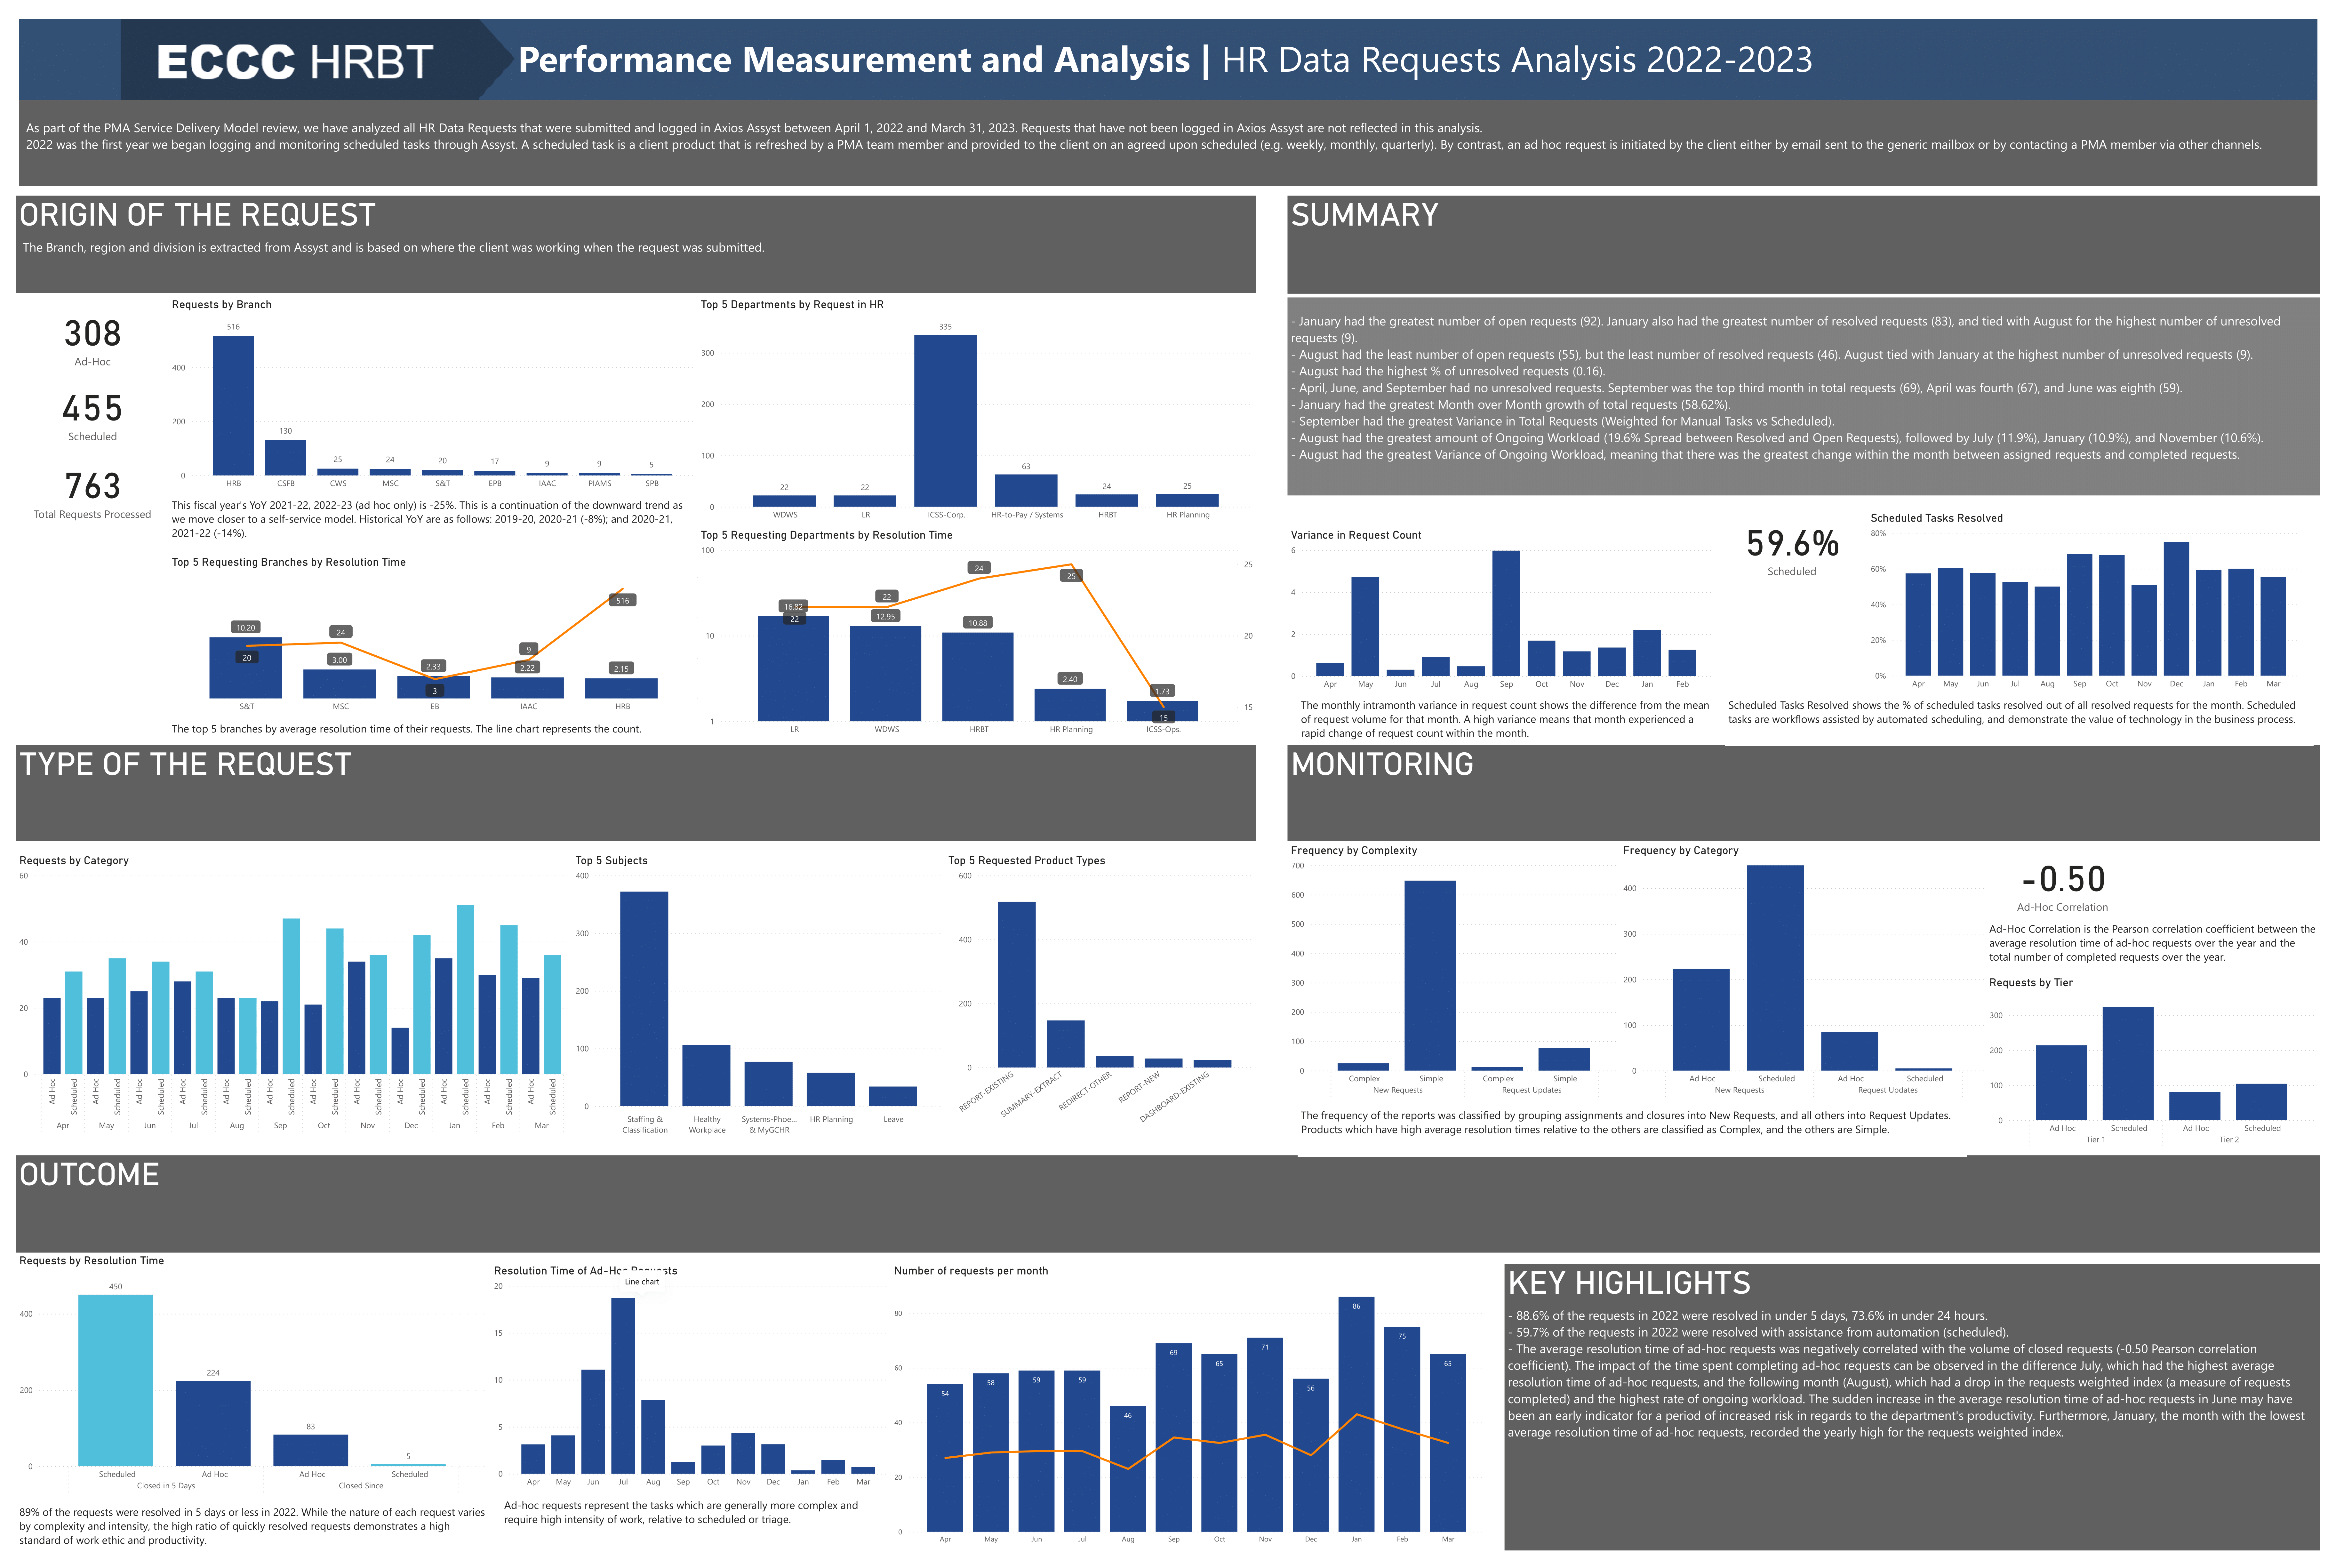

This screenshot's page, from the dashboard's own definition file:
{"tool":"powerbi","page":{"name":"Highlights","canvas":[3456,2304],"ordinal":0},"visuals":[{"type":"slicer","fields":{"Values":["Date.Date"]},"box":[3200,20,231.7,105],"z":0},{"type":"image","box":[0,0,3456.7,260],"z":1000},{"type":"textbox","box":[746.7,20,2453.3,86.7],"z":2000},{"type":"textbox","title":"ORIGIN OF THE REQUEST","box":[0,270,1860,146],"z":3000},{"type":"lineStackedColumnComboChart","title":"Top 5 Requesting Branches by Resolution Time","fields":{"Category":["HR_DATA_REQUEST_REPORT.AFF_BRANCH_TEXT"],"Y":["Avg(HR_DATA_REQUEST_REPORT.RESOLUTION_TIME)"],"Y2":["CountNonNull(HR_DATA_REQUEST_REPORT.RESOLUTION_TIME)"]},"box":[231.2,810,837.5,245],"z":4000},{"type":"lineClusteredColumnComboChart","title":"Requests by Branch","fields":{"Category":["HR_DATA_REQUEST_REPORT.AFF_BRANCH_TEXT"],"Y":["CountNonNull(HR_DATA_REQUEST_REPORT.INCIDENT_REF)"]},"box":[230,421.4,792.9,297.1],"z":5000},{"type":"columnChart","title":"Resolution Time of Ad-Hoc Requests","fields":{"Category":["MonthOrder.MonthOrderDesc"],"Y":["Avg(HR_DATA_REQUEST_REPORT.RESOLUTION_TIME)"]},"box":[712.5,1872.5,600,345],"z":6000},{"type":"textbox","title":"TYPE OF THE REQUEST","box":[0,1096,1860,144],"z":7000},{"type":"textbox","title":"OUTCOME","box":[0,1710,3460,146],"z":8000},{"type":"textbox","title":"KEY HIGHLIGHTS","box":[2232.5,1872.5,1225,430],"z":9000},{"type":"columnChart","title":"Scheduled Tasks Resolved","fields":{"Category":["MonthOrder.MonthOrderDesc"],"Y":["HR_DATA_REQUEST_REPORT.Automated Tasks Resolved"]},"box":[2778.9,742.2,653.3,276.7],"z":10000},{"type":"lineClusteredColumnComboChart","title":"Requests by Category","fields":{"Category":["MonthOrder.MonthOrderDesc","HR_DATA_REQUEST_REPORT.INC_CAT_N"],"Y":["CountNonNull(HR_DATA_REQUEST_REPORT.INCIDENT_REF)"]},"box":[0,1258,836,430],"z":11000},{"type":"clusteredColumnChart","title":"Top 5 Departments by Request in HR","fields":{"Y":["CountNonNull(HR_DATA_REQUEST_REPORT.INCIDENT_REF)"],"Category":["Sheet4.HR DIVISION"]},"box":[1022,422,838,344],"z":12000},{"type":"lineStackedColumnComboChart","title":"Number of requests per month","fields":{"Category":["MonthOrder.MonthOrderDesc"],"Y":["CountNonNull(HR_DATA_REQUEST_REPORT.INCIDENT_REF)","HR_DATA_REQUEST_REPORT.Unresolved"],"Y2":["HR_DATA_REQUEST_REPORT.Requests Weighted Index"]},"box":[1312,1872,896,430],"z":13000},{"type":"textbox","title":"MONITORING","box":[1906,1096,1550,144],"z":14000},{"type":"clusteredColumnChart","title":"Variance in Request Count","fields":{"Category":["MonthOrder.MonthOrderDesc"],"Y":["HR_DATA_REQUEST_REPORT.Requests Weighted Index Variance"]},"box":[1906.2,766.2,640,252.5],"z":15000},{"type":"columnChart","title":"Requests by Resolution Time","fields":{"Category":["HR_DATA_REQUEST_REPORT.CLOSEDIN5DAYS","HR_DATA_REQUEST_REPORT.INC_CAT_N"],"Y":["CountNonNull(HR_DATA_REQUEST_REPORT.INCIDENT_REF)"]},"box":[0,1856.2,712.5,370],"z":16000},{"type":"textbox","title":"SUMMARY","box":[1906.7,270,1550,146.7],"z":17000},{"type":"textbox","box":[1906.7,421.7,1550,296.7],"z":18000},{"type":"card","fields":{"Values":["CountNonNull(HR_DATA_REQUEST_REPORT.INCIDENT_REF)"]},"box":[1.2,651.2,230,113.8],"z":19000},{"type":"textbox","title":"ORIGIN OF THE REQUEST","box":[11.2,130,3433.8,115],"z":20000},{"type":"card","fields":{"Values":["CountNonNull(HR_DATA_REQUEST_REPORT.INCIDENT_REF)"]},"box":[1.2,421.2,230,113.8],"z":21000},{"type":"card","fields":{"Values":["CountNonNull(HR_DATA_REQUEST_REPORT.INCIDENT_REF)"]},"box":[0,536.2,230,115],"z":22000},{"type":"columnChart","title":"Top 5 Subjects","fields":{"Y":["CountNonNull(HR_DATA_REQUEST_REPORT.INCIDENT_REF)"],"Category":["Sheet5.Subject Area"]},"box":[831.7,1258.3,561.7,430],"z":23000},{"type":"columnChart","title":"Top 5 Requested Product Types","fields":{"Y":["CountNonNull(HR_DATA_REQUEST_REPORT.INCIDENT_REF)"],"Category":["HR_DATA_REQUEST_REPORT.PRODUCT_SC"]},"box":[1393.8,1258.8,466.2,430],"z":24000},{"type":"lineStackedColumnComboChart","title":"Top 5 Requesting Departments by Resolution Time","fields":{"Y":["Avg(HR_DATA_REQUEST_REPORT.RESOLUTION_TIME)"],"Y2":["CountNonNull(HR_DATA_REQUEST_REPORT.RESOLUTION_TIME)"],"Category":["Sheet4.HR DIVISION"]},"box":[1022,766,838,320],"z":25000},{"type":"clusteredColumnChart","title":"Requests by Tier","fields":{"Category":["HR_DATA_REQUEST_REPORT.Tier 1","HR_DATA_REQUEST_REPORT.INC_CAT_N"],"Y":["CountNonNull(HR_DATA_REQUEST_REPORT.INCIDENT_REF)"]},"box":[2956.7,1441.7,500,268.3],"z":26000},{"type":"clusteredColumnChart","title":"Frequency by Category","fields":{"Category":["HR_DATA_REQUEST_REPORT.Frequency Type","HR_DATA_REQUEST_REPORT.INC_CAT_N"],"Y":["CountNonNull(HR_DATA_REQUEST_REPORT.INCIDENT_REF)"]},"box":[2405,1240,551.7,391.7],"z":27000},{"type":"clusteredColumnChart","title":"Frequency by Complexity","fields":{"Category":["HR_DATA_REQUEST_REPORT.Frequency Type","HR_DATA_REQUEST_REPORT.Request Complexity"],"Y":["CountNonNull(HR_DATA_REQUEST_REPORT.INCIDENT_REF)"]},"box":[1906.7,1240,501.7,391.7],"z":28000},{"type":"textbox","box":[230,718.6,791.4,75.7],"z":29000},{"type":"textbox","box":[230,1055,791.2,31.2],"z":30000},{"type":"textbox","box":[1920,1018.8,626.2,75],"z":31000},{"type":"textbox","box":[2562.5,1016.2,882.5,77.5],"z":32000},{"type":"textbox","box":[1920,1631.2,1003.8,78.8],"z":33000},{"type":"textbox","box":[0,2226.2,712.5,77.5],"z":34000},{"type":"textbox","box":[725,2217.5,573.8,77.5],"z":35000},{"type":"card","title":"Ad-Hoc Correlation","fields":{"Values":["Sheet1.Correlation between Ad-Hoc Time and Requests Completed"]},"box":[2956.7,1240,230,113.3],"z":36000},{"type":"textbox","box":[2956.7,1353.3,500,75],"z":37000},{"type":"card","title":"Automated Tasks","fields":{"Values":["HR_DATA_REQUEST_REPORT.Automated Tasks Resolved"]},"box":[2546.7,737.8,232.2,113.3],"z":38000}]}

Visuals, with their boxes on the page's 3456x2304 design canvas (x1, y1, x2, y2). These are canvas units, not pixel positions in the 2336x1568 screenshot, which may show the page scaled, cropped or inside an application window:
slicer - Date.Date: bbox(3200, 20, 3432, 125)
image: bbox(0, 0, 3457, 260)
textbox: bbox(747, 20, 3200, 107)
"ORIGIN OF THE REQUEST" textbox: bbox(0, 270, 1860, 416)
"Top 5 Requesting Branches by Resolution Time" lineStackedColumnComboChart: bbox(231, 810, 1069, 1055)
"Requests by Branch" lineClusteredColumnComboChart: bbox(230, 421, 1023, 718)
"Resolution Time of Ad-Hoc Requests" columnChart: bbox(712, 1872, 1312, 2218)
"TYPE OF THE REQUEST" textbox: bbox(0, 1096, 1860, 1240)
"OUTCOME" textbox: bbox(0, 1710, 3460, 1856)
"KEY HIGHLIGHTS" textbox: bbox(2232, 1872, 3458, 2302)
"Scheduled Tasks Resolved" columnChart: bbox(2779, 742, 3432, 1019)
"Requests by Category" lineClusteredColumnComboChart: bbox(0, 1258, 836, 1688)
"Top 5 Departments by Request in HR" clusteredColumnChart: bbox(1022, 422, 1860, 766)
"Number of requests per month" lineStackedColumnComboChart: bbox(1312, 1872, 2208, 2302)
"MONITORING" textbox: bbox(1906, 1096, 3456, 1240)
"Variance in Request Count" clusteredColumnChart: bbox(1906, 766, 2546, 1019)
"Requests by Resolution Time" columnChart: bbox(0, 1856, 712, 2226)
"SUMMARY" textbox: bbox(1907, 270, 3457, 417)
textbox: bbox(1907, 422, 3457, 718)
card - CountNonNull(HR_DATA_REQUEST_REPORT.INCIDENT_REF): bbox(1, 651, 231, 765)
"ORIGIN OF THE REQUEST" textbox: bbox(11, 130, 3445, 245)
card - CountNonNull(HR_DATA_REQUEST_REPORT.INCIDENT_REF): bbox(1, 421, 231, 535)
card - CountNonNull(HR_DATA_REQUEST_REPORT.INCIDENT_REF): bbox(0, 536, 230, 651)
"Top 5 Subjects" columnChart: bbox(832, 1258, 1393, 1688)
"Top 5 Requested Product Types" columnChart: bbox(1394, 1259, 1860, 1689)
"Top 5 Requesting Departments by Resolution Time" lineStackedColumnComboChart: bbox(1022, 766, 1860, 1086)
"Requests by Tier" clusteredColumnChart: bbox(2957, 1442, 3457, 1710)
"Frequency by Category" clusteredColumnChart: bbox(2405, 1240, 2957, 1632)
"Frequency by Complexity" clusteredColumnChart: bbox(1907, 1240, 2408, 1632)
textbox: bbox(230, 719, 1021, 794)
textbox: bbox(230, 1055, 1021, 1086)
textbox: bbox(1920, 1019, 2546, 1094)
textbox: bbox(2562, 1016, 3445, 1094)
textbox: bbox(1920, 1631, 2924, 1710)
textbox: bbox(0, 2226, 712, 2304)
textbox: bbox(725, 2218, 1299, 2295)
"Ad-Hoc Correlation" card: bbox(2957, 1240, 3187, 1353)
textbox: bbox(2957, 1353, 3457, 1428)
"Automated Tasks" card: bbox(2547, 738, 2779, 851)
